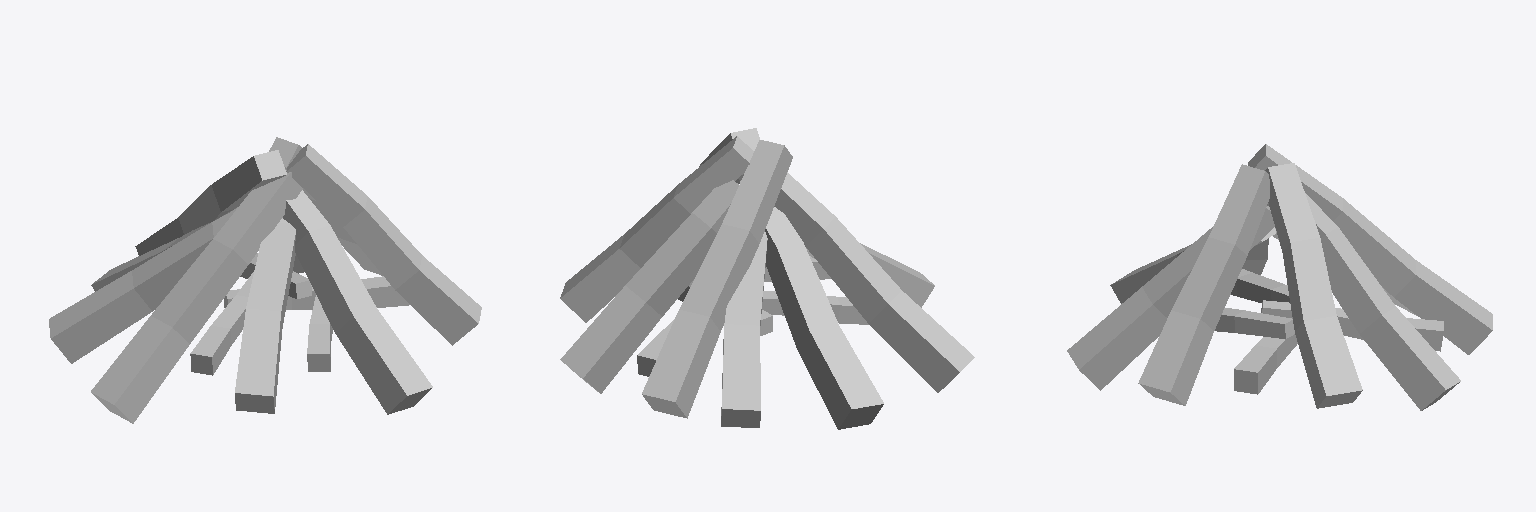
Rendered from FireLogs.obj.
The picture shows the model from 3 angles: view 1: azimuth 30°, elevation 25°; view 2: azimuth 150°, elevation 25°; view 3: azimuth 270°, elevation 25°; orthographic projection.
Visible parts, largest first — view 1: Cube.024_Cube.121; view 2: Cube.024_Cube.121; view 3: Cube.024_Cube.121.
Part boxes in pixels (x1,y1,x2,y2): Cube.024_Cube.121: (49, 137, 481, 423); Cube.024_Cube.121: (560, 128, 974, 429); Cube.024_Cube.121: (1067, 144, 1492, 410).
Bounding box in the file's own units: 6.79 × 3.9 × 7.